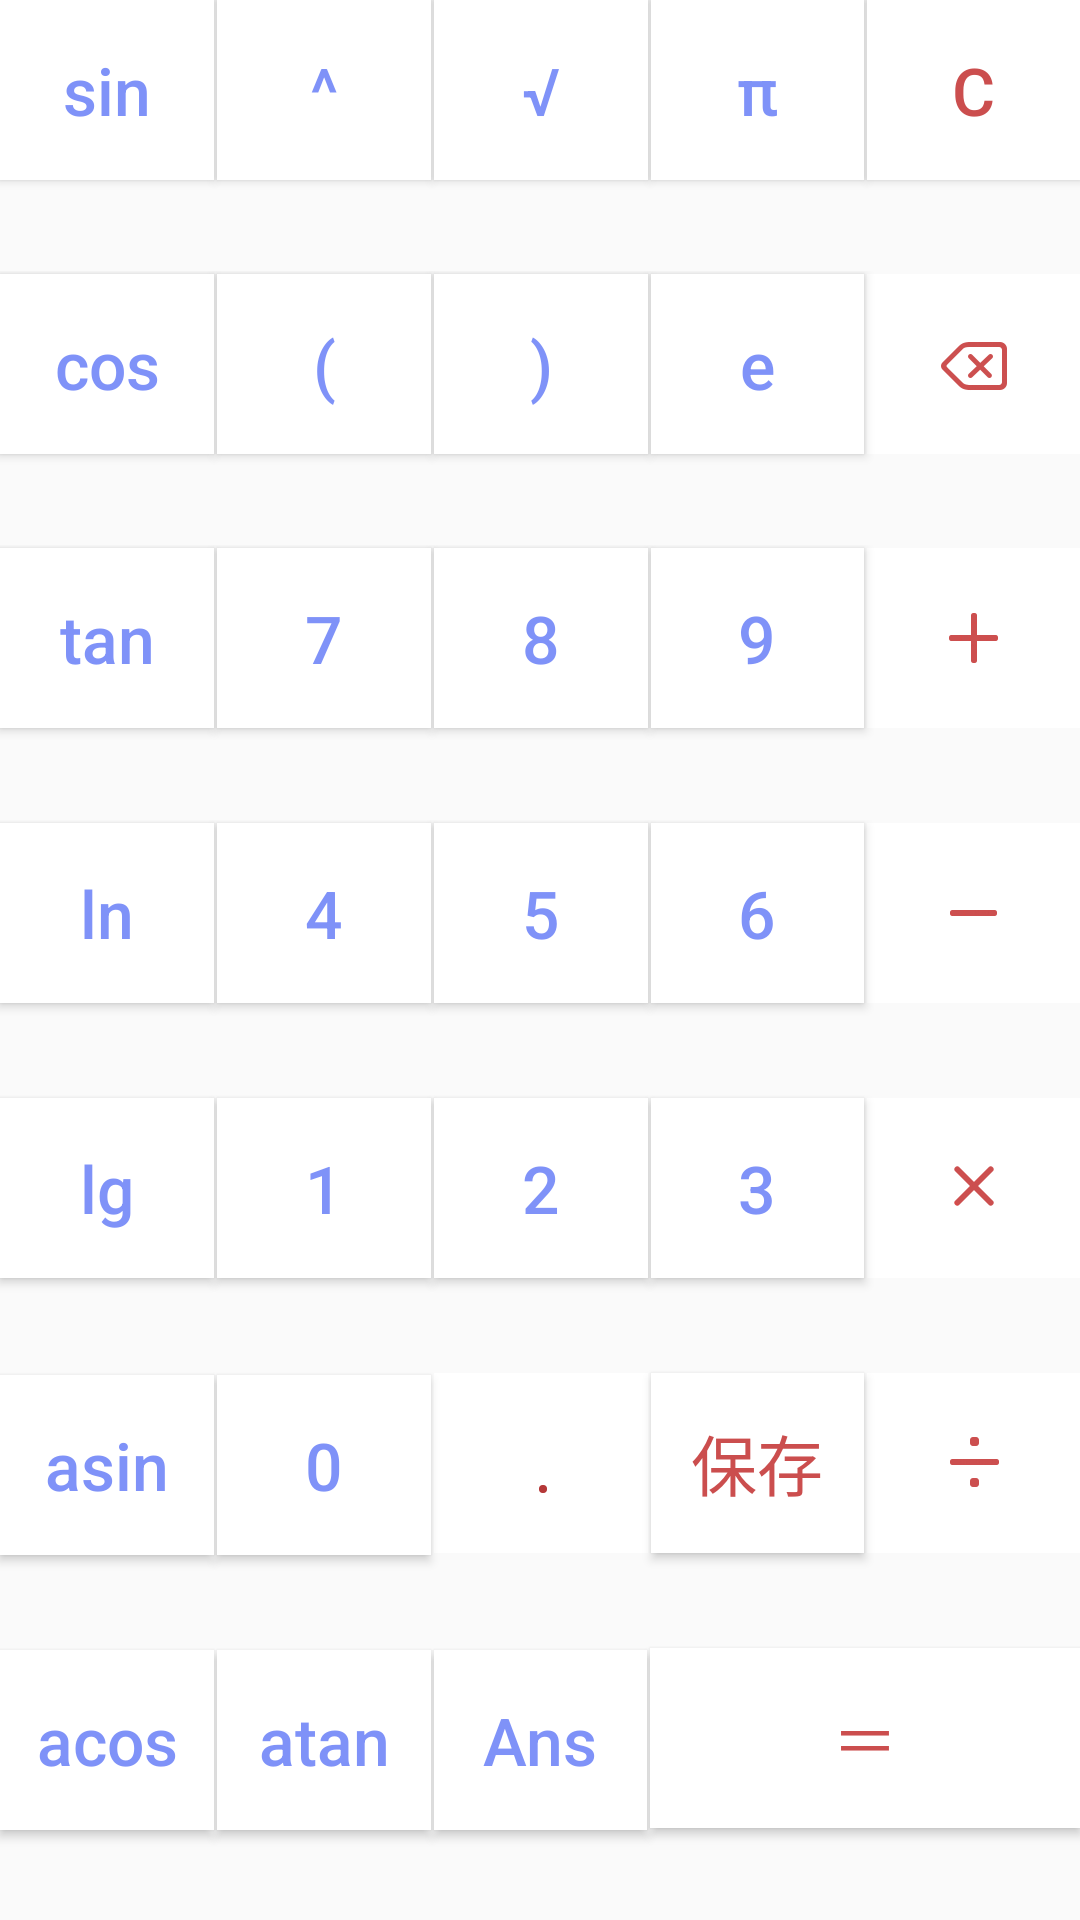

Icons on this 1080px x 1920px Android screen, each with its box as (x1, y1, x2, y2):
pad del: (941, 342, 1007, 390)
pad div: (950, 1437, 999, 1487)
pad mul: (954, 1166, 994, 1206)
pad plus: (949, 613, 998, 663)
